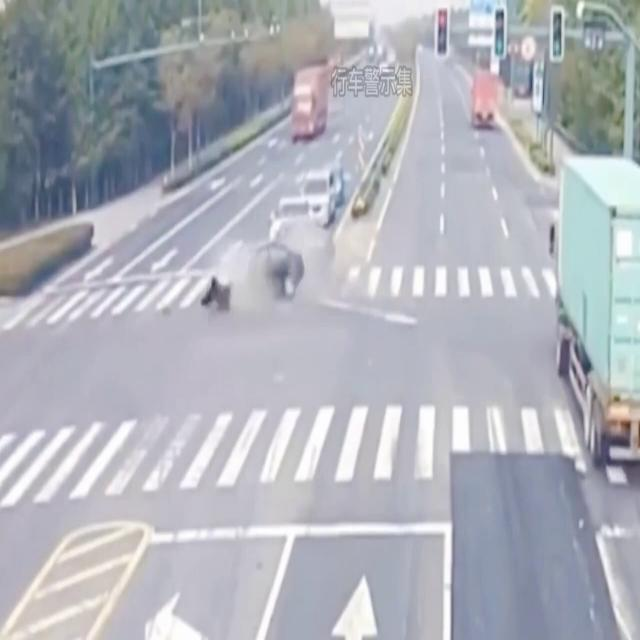multiple_accident: (164, 170, 374, 316)
normal: (250, 50, 563, 133)
